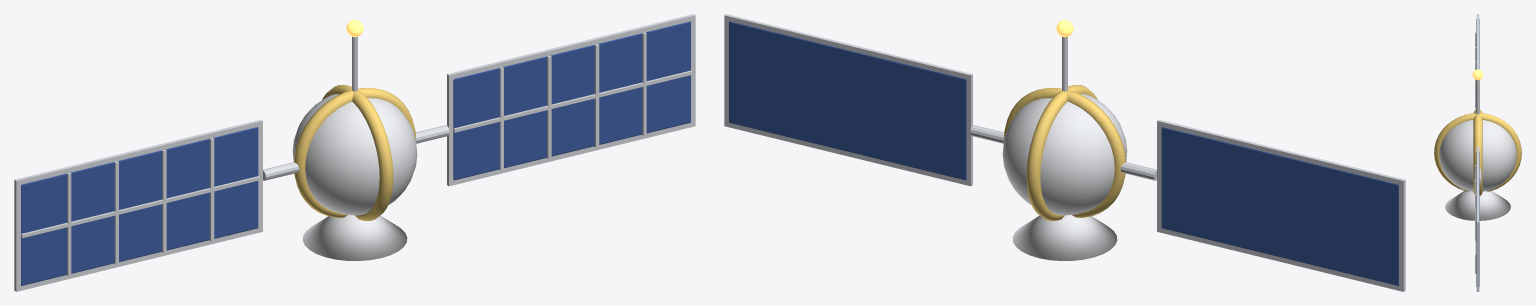
Rendered from satellite-lo.glb.
The picture shows the model from 3 angles, left to right: view 1: azimuth 30°, elevation 25°; view 2: azimuth 150°, elevation 25°; view 3: azimuth 270°, elevation 25°; orthographic projection. The views are drawn at different scales.
Parts seen in each view (by area): view 1: SAT_PanelBoard_R, SAT_PanelBoard_L, SAT_Core, SAT_PanelFrame_L, SAT_PanelFrame_R, SAT_Dish, SAT_Band, SAT_Band2, SAT_Mid_R, SAT_Mid_L, SAT_Cell_R3, SAT_Cell_L1 (+6 smaller); view 2: SAT_PanelBoard_R, SAT_PanelBoard_L, SAT_Core, SAT_PanelFrame_L, SAT_PanelFrame_R, SAT_Dish, SAT_Band, SAT_Band2; view 3: SAT_Core, SAT_Dish, SAT_Band2, SAT_Band, SAT_PanelFrame_R, SAT_PanelBoard_R, SAT_PanelFrame_L, SAT_Antenna, SAT_AntTip, SAT_PanelBoard_L, SAT_Cell_R4.
Boxes of the visible parts, x1,y1,x2,y2 form: SAT_PanelBoard_R: [453, 21, 690, 180]; SAT_PanelBoard_L: [21, 127, 258, 285]; SAT_Core: [292, 94, 417, 215]; SAT_PanelFrame_L: [14, 119, 262, 291]; SAT_PanelFrame_R: [447, 14, 695, 186]; SAT_Dish: [302, 215, 407, 260]; SAT_Band: [294, 88, 416, 217]; SAT_Band2: [322, 84, 393, 221]; SAT_Mid_R: [453, 70, 692, 132]; SAT_Mid_L: [21, 176, 259, 238]; SAT_Cell_R3: [594, 44, 599, 147]; SAT_Cell_L1: [209, 138, 214, 241]; SAT_PanelBoard_R: [729, 21, 966, 180]; SAT_PanelBoard_L: [1161, 127, 1398, 285]; SAT_Core: [1002, 94, 1127, 215]; SAT_PanelFrame_L: [1157, 119, 1405, 291]; SAT_PanelFrame_R: [724, 14, 972, 186]; SAT_Dish: [1012, 215, 1117, 260]; SAT_Band: [1003, 88, 1125, 217]; SAT_Band2: [1026, 84, 1097, 221]; SAT_Core: [1439, 120, 1516, 191]; SAT_Dish: [1445, 191, 1510, 220]; SAT_Band2: [1434, 113, 1521, 191]; SAT_Band: [1473, 110, 1482, 195]; SAT_PanelFrame_R: [1476, 146, 1479, 291]; SAT_PanelBoard_R: [1476, 152, 1479, 286]; SAT_PanelFrame_L: [1476, 14, 1479, 69]; SAT_Antenna: [1476, 80, 1479, 114]; SAT_AntTip: [1472, 69, 1483, 80]; SAT_PanelBoard_L: [1476, 19, 1479, 69]; SAT_Cell_R4: [1475, 208, 1476, 273].
Size of the model in its own units: 6.28 by 2.07 by 1.12.
